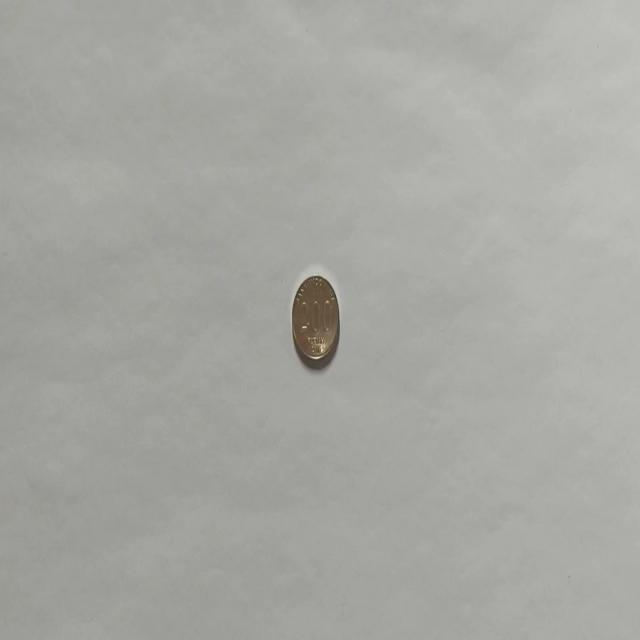dua ratus rupiah: (290, 272, 340, 364)
